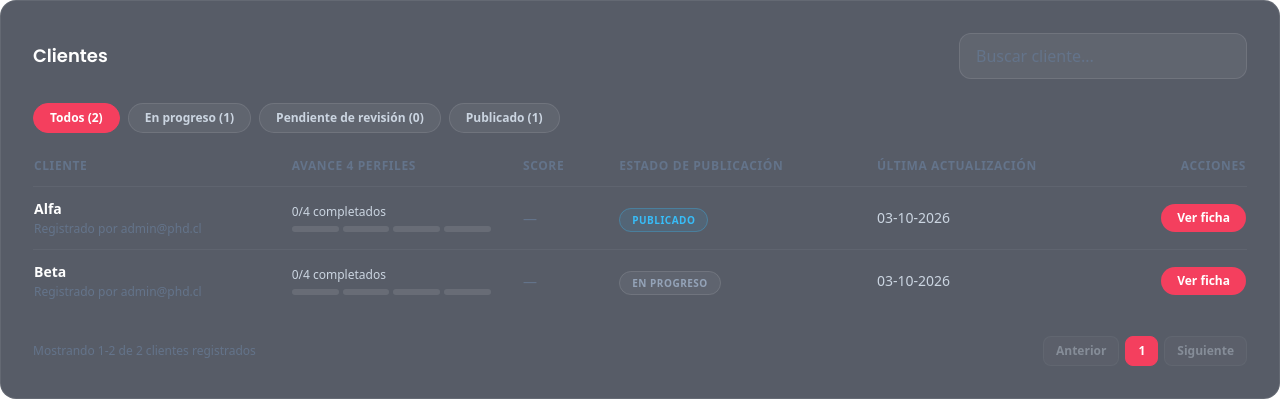
Test: ClientsTable › filters, kebab menu and pagination › shows chips with counts and filters by state with aria-pressed
Click the button "Publicado (1)".
click(504, 118)  # box [449,103,560,133]
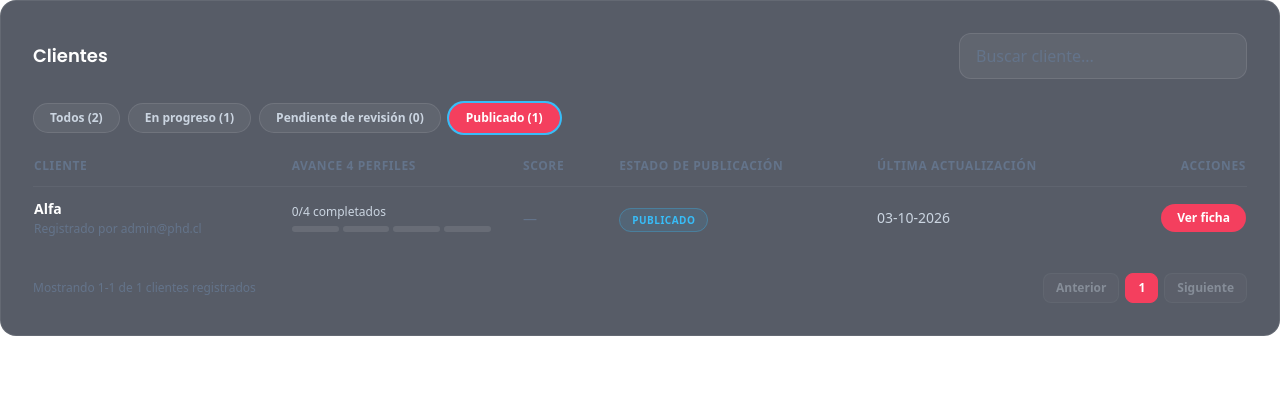
Check: the text "Alfa" is shown, box [34,199,62,219]
Check: the text "Beta" is gone
